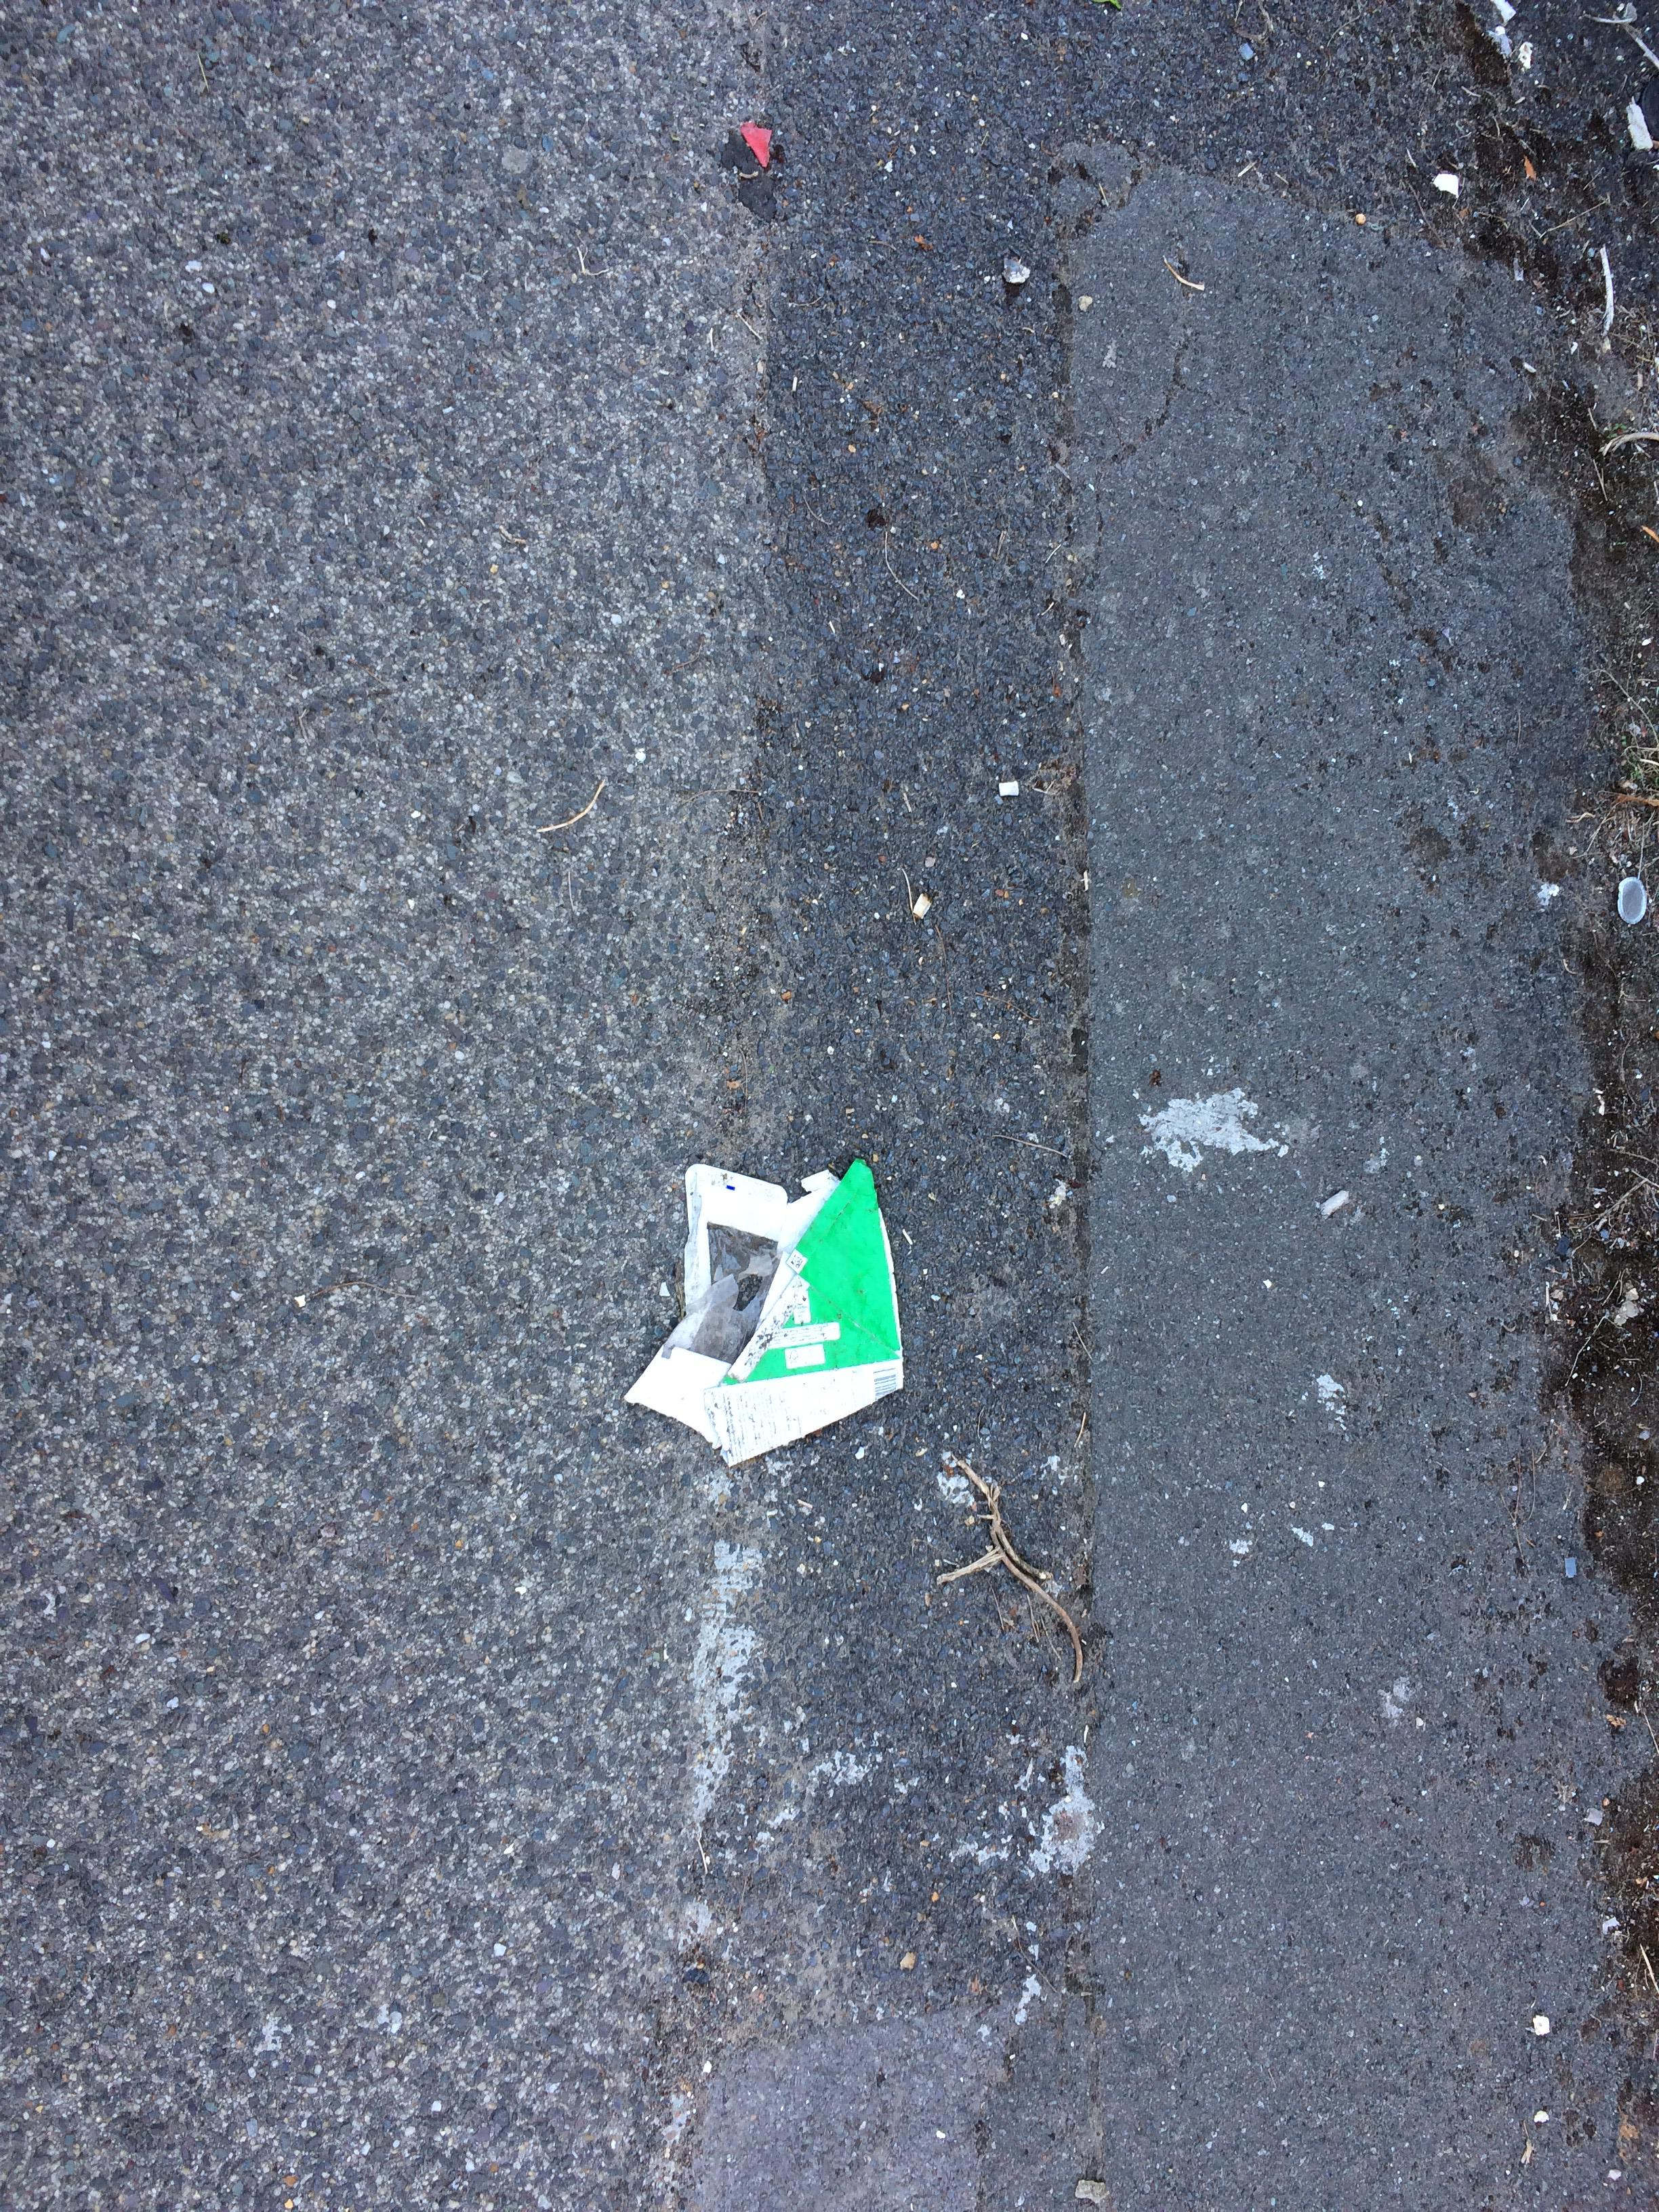Trash: (629, 1134, 901, 1461)
